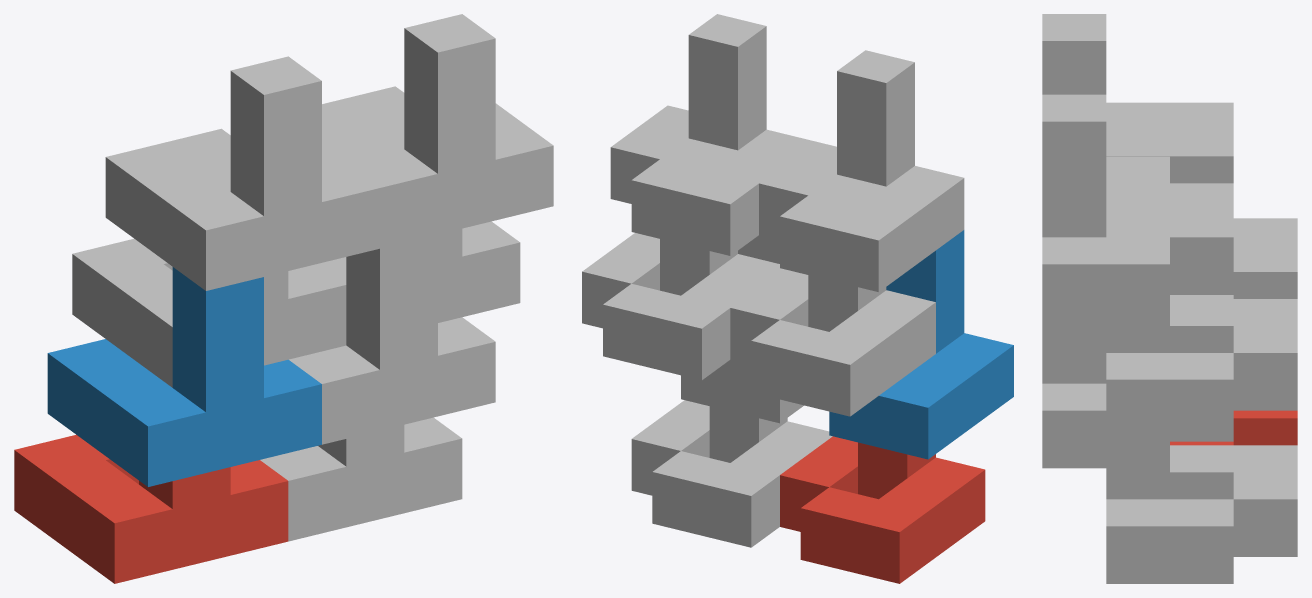
The model's file is tiling.obj.
The picture shows the model from 3 angles, left to right: view 1: azimuth 30°, elevation 25°; view 2: azimuth 150°, elevation 25°; view 3: azimuth 270°, elevation 25°; orthographic projection. The views are drawn at different scales.
Visible parts, largest first — view 1: copy_1_domain_4, copy_1_domain_2, copy_1_domain_8, copy_1_domain_1, copy_1_domain_6, copy_1_domain_3, copy_1_domain_5, copy_1_domain_7; view 2: copy_1_domain_4, copy_1_domain_8, copy_1_domain_3, copy_1_domain_1, copy_1_domain_7, copy_1_domain_5, copy_1_domain_2, copy_1_domain_6; view 3: copy_1_domain_8, copy_1_domain_7, copy_1_domain_5, copy_1_domain_4, copy_1_domain_6, copy_1_domain_3, copy_1_domain_1.
Boxes of the visible parts, x1,y1,x2,y2 form: copy_1_domain_4: (105, 56, 379, 290); copy_1_domain_2: (47, 267, 321, 486); copy_1_domain_8: (322, 14, 553, 248); copy_1_domain_1: (14, 434, 288, 583); copy_1_domain_6: (289, 234, 495, 444); copy_1_domain_3: (72, 159, 346, 387); copy_1_domain_5: (260, 417, 462, 541); copy_1_domain_7: (318, 117, 520, 322); copy_1_domain_4: (759, 50, 964, 292); copy_1_domain_8: (610, 14, 815, 255); copy_1_domain_3: (730, 174, 935, 416); copy_1_domain_1: (780, 436, 985, 583); copy_1_domain_7: (582, 138, 782, 380); copy_1_domain_5: (631, 400, 832, 547); copy_1_domain_2: (829, 230, 1013, 459); copy_1_domain_6: (681, 235, 803, 423); copy_1_domain_8: (1042, 94, 1233, 321); copy_1_domain_7: (1106, 210, 1297, 437); copy_1_domain_5: (1106, 445, 1297, 583); copy_1_domain_4: (1042, 14, 1233, 183); copy_1_domain_6: (1042, 322, 1233, 468); copy_1_domain_3: (1106, 129, 1297, 298); copy_1_domain_1: (1170, 410, 1297, 445).
Size of the model in its own units: 7 by 8 by 4.
